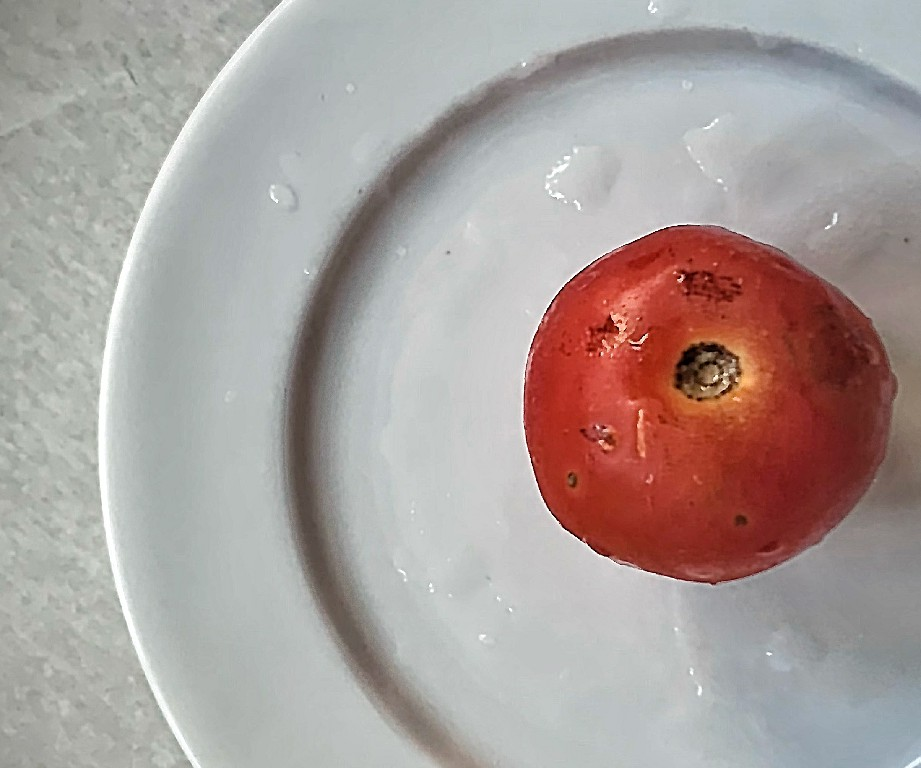NG: (511, 225, 897, 591)
